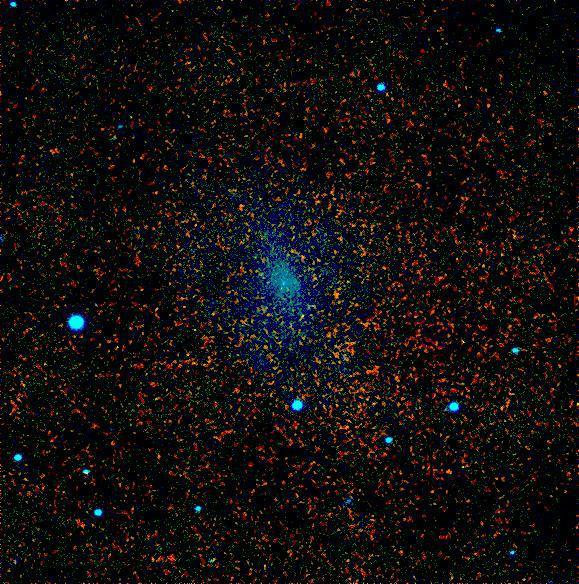star: (321, 279, 351, 309)
